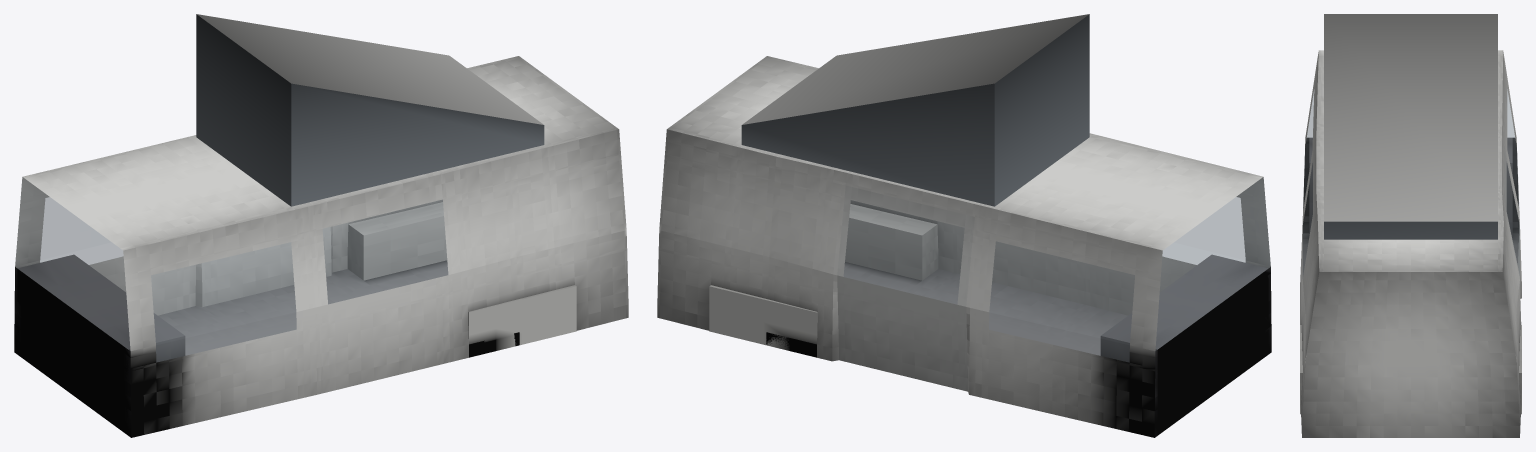
File: van.glb
3 views of the same model, side by side, from view 1: azimuth 30°, elevation 25°; view 2: azimuth 150°, elevation 25°; view 3: azimuth 270°, elevation 25° (orthographic). The views are drawn at different scales.
Visible parts, largest first — view 1: wall_left, poptop_tent, roof_fixed, wall_left_glass, poptop_lid, windshield_glass, dashboard, front_panel, floor, wall_right, arch_right, arch_left (+2 smaller); view 2: wall_right, poptop_tent, roof_fixed, wall_right_glass, dashboard, wall_right_door, poptop_lid, windshield_glass, wall_left, floor, arch_left, arch_right (+2 smaller); view 3: poptop_lid, rear_panel, roof_fixed, poptop_tent, wall_left, wall_right, wall_right_glass, wall_left_glass, dashboard, front_panel, floor, wall_right_door (+1 smaller).
Boxes of the visible parts, bbox=[...] form: wall_left: bbox=[123, 129, 628, 437]; poptop_tent: bbox=[196, 14, 544, 206]; roof_fixed: bbox=[22, 56, 618, 250]; wall_left_glass: bbox=[151, 200, 447, 361]; poptop_lid: bbox=[196, 14, 543, 124]; windshield_glass: bbox=[15, 177, 129, 350]; dashboard: bbox=[17, 254, 185, 434]; front_panel: bbox=[14, 267, 131, 437]; floor: bbox=[158, 260, 448, 355]; wall_right: bbox=[15, 177, 442, 315]; arch_right: bbox=[347, 202, 447, 280]; arch_left: bbox=[468, 285, 576, 354]; wall_right: bbox=[657, 129, 1162, 437]; poptop_tent: bbox=[741, 14, 1089, 206]; roof_fixed: bbox=[667, 56, 1263, 250]; wall_right_glass: bbox=[844, 200, 1134, 361]; dashboard: bbox=[1100, 254, 1268, 435]; wall_right_door: bbox=[837, 185, 974, 391]; poptop_lid: bbox=[742, 14, 1089, 124]; windshield_glass: bbox=[1156, 177, 1270, 350]; wall_left: bbox=[850, 177, 1270, 315]; floor: bbox=[843, 262, 1127, 355]; arch_left: bbox=[845, 204, 938, 280]; arch_right: bbox=[709, 285, 817, 351]; poptop_lid: bbox=[1324, 14, 1497, 221]; rear_panel: bbox=[1302, 272, 1519, 437]; roof_fixed: bbox=[1316, 50, 1503, 271]; poptop_tent: bbox=[1324, 221, 1497, 239]; wall_left: bbox=[1300, 52, 1319, 433]; wall_right: bbox=[1502, 52, 1521, 433]; wall_right_glass: bbox=[1507, 91, 1519, 273]; wall_left_glass: bbox=[1303, 94, 1313, 274]; dashboard: bbox=[1309, 137, 1512, 239]; front_panel: bbox=[1304, 137, 1517, 216]; floor: bbox=[1302, 216, 1518, 278]; wall_right_door: bbox=[1504, 146, 1519, 278].
Size of the model in its own units: 3.92 by 2.3 by 1.66.
